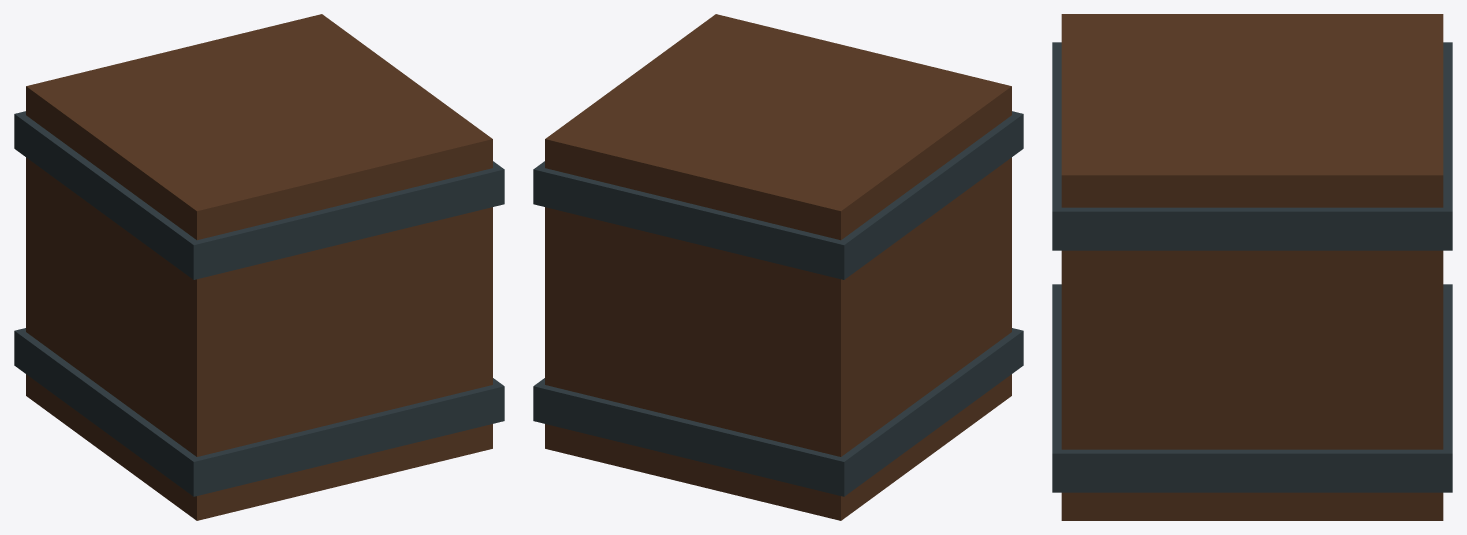
File: crate.obj
3 views of the same model, side by side, from view 1: azimuth 30°, elevation 25°; view 2: azimuth 150°, elevation 25°; view 3: azimuth 270°, elevation 25° (orthographic). The views are drawn at different scales.
Size of the model in its own units: 0.84 by 0.8 by 0.84.
